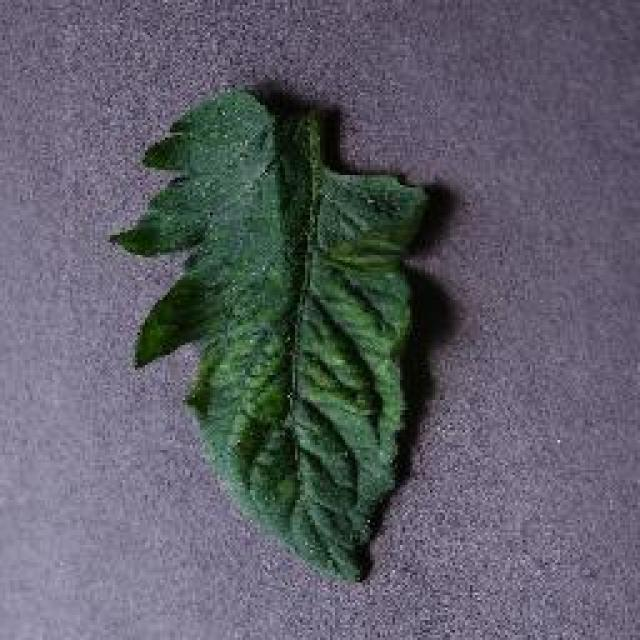Tomato___Tomato_mosaic_virus: (112, 90, 428, 578)
